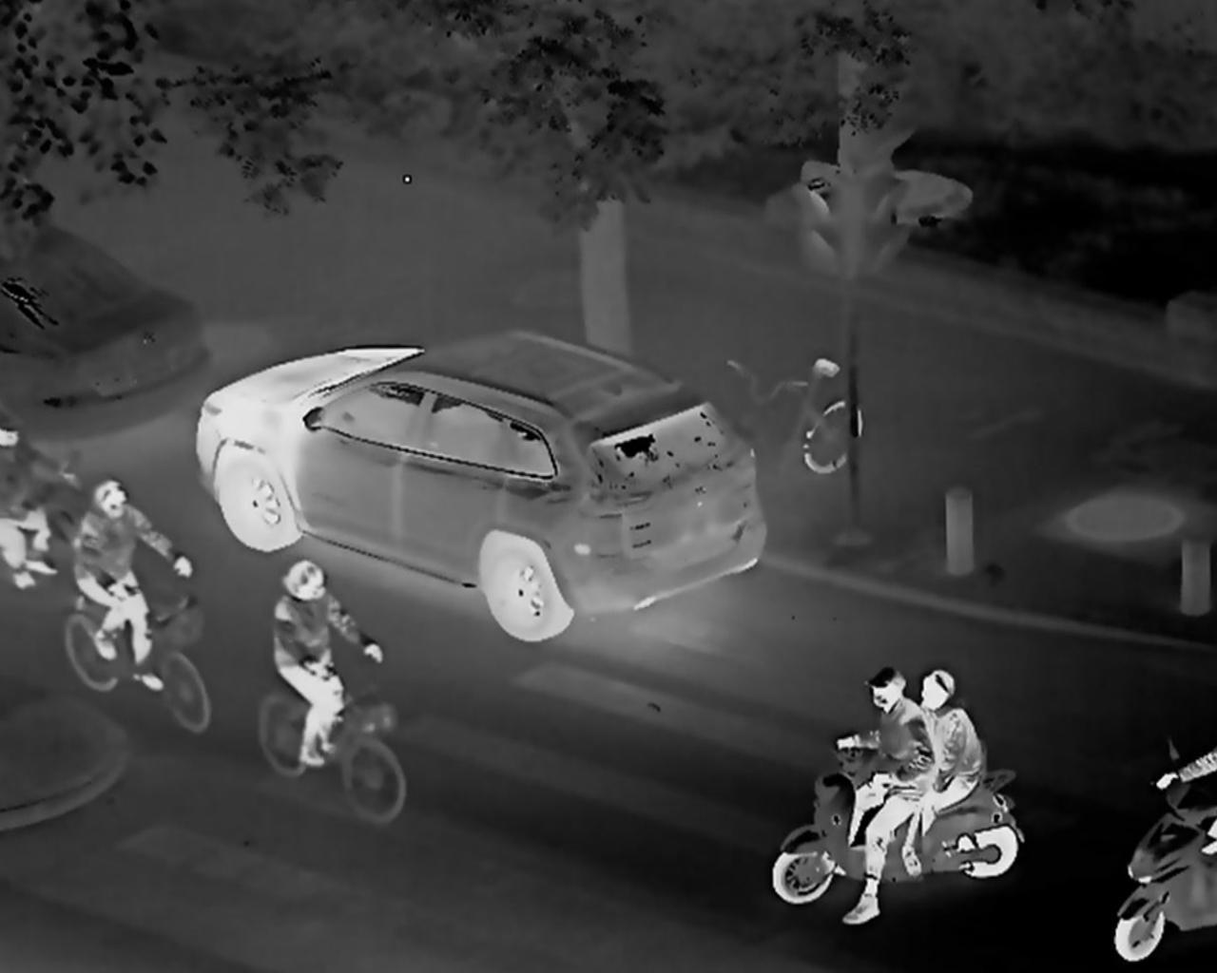person: (66, 472, 192, 692), (835, 668, 936, 925), (271, 556, 383, 765), (905, 672, 982, 877)
